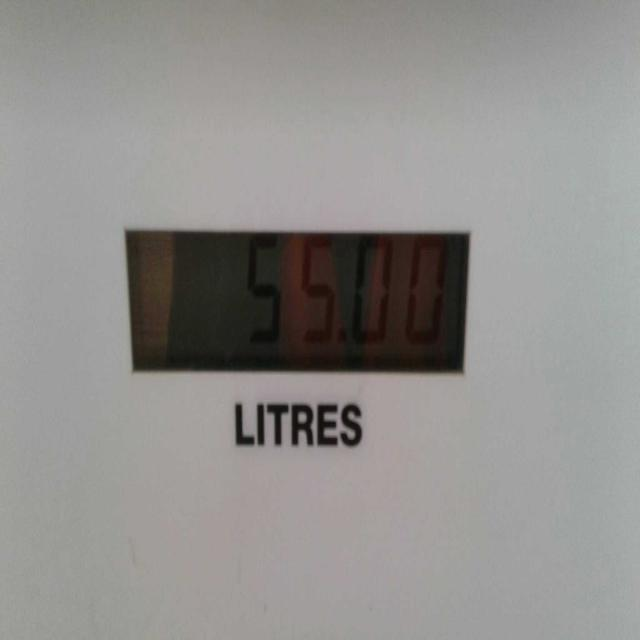.: (334, 322, 350, 348)
0: (344, 224, 398, 371), (405, 226, 452, 358)
5: (235, 225, 283, 361), (294, 228, 341, 361)
